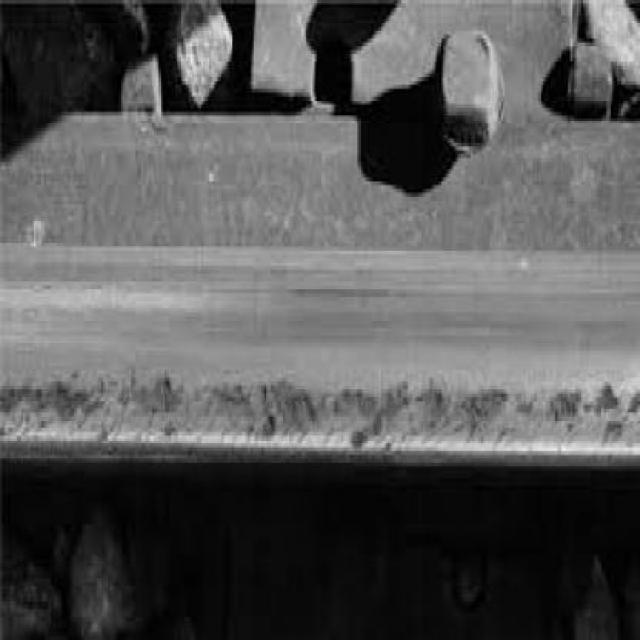non-defective: (4, 242, 640, 553)
